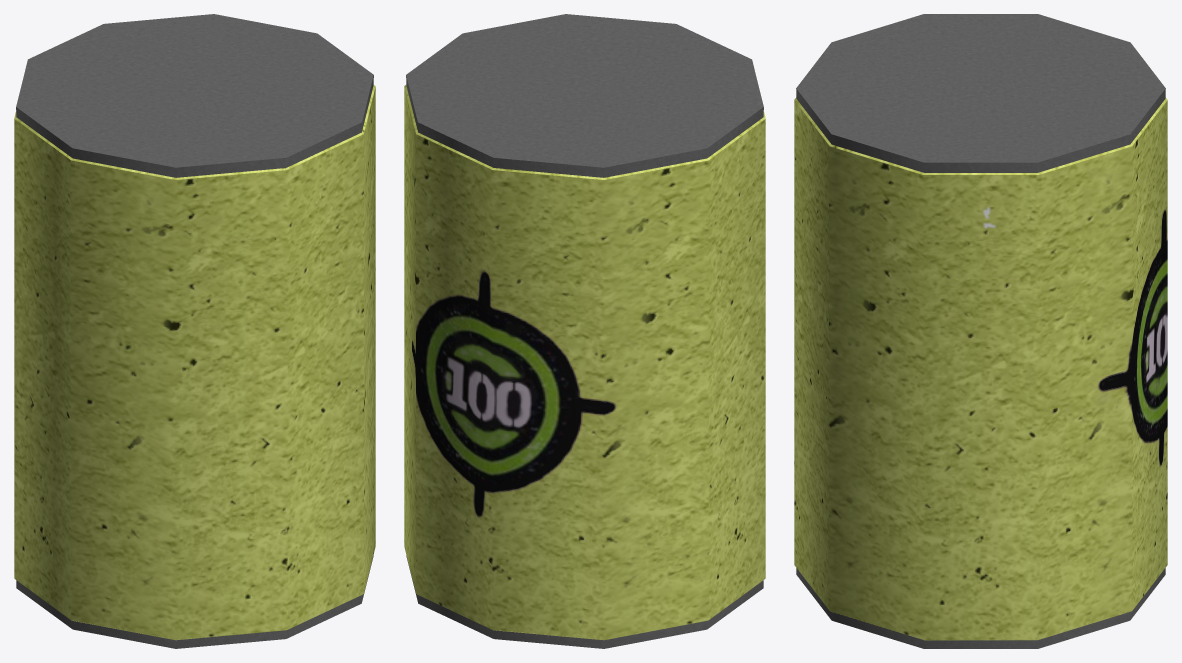
File: Can.fbx
The picture shows the model from 3 angles, left to right: view 1: azimuth 30°, elevation 25°; view 2: azimuth 150°, elevation 25°; view 3: azimuth 270°, elevation 25°; orthographic projection.
Parts seen in each view (by area): view 1: Cylinder.001; view 2: Cylinder.001; view 3: Cylinder.001.
Part boxes in pixels (bbox=[...]): Cylinder.001: bbox=[14, 14, 375, 648]; Cylinder.001: bbox=[404, 14, 765, 648]; Cylinder.001: bbox=[794, 14, 1167, 648].
Size of the model in its own units: 11.66 by 17.61 by 12.25.
